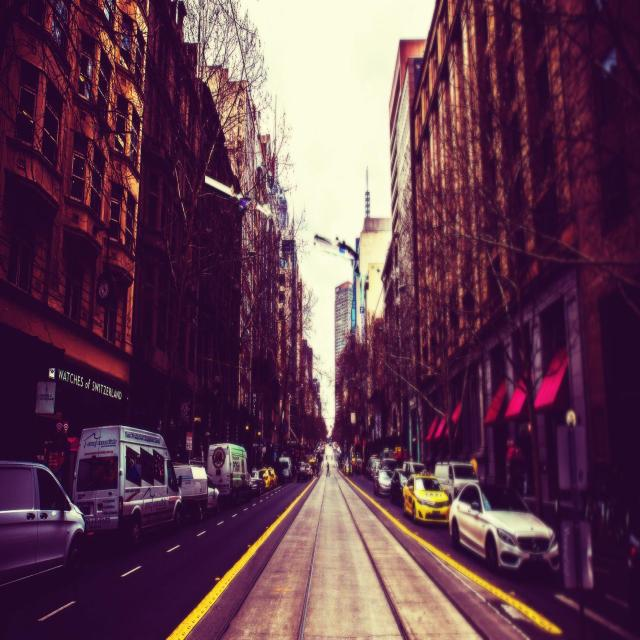airplane: (205, 172, 358, 263)
